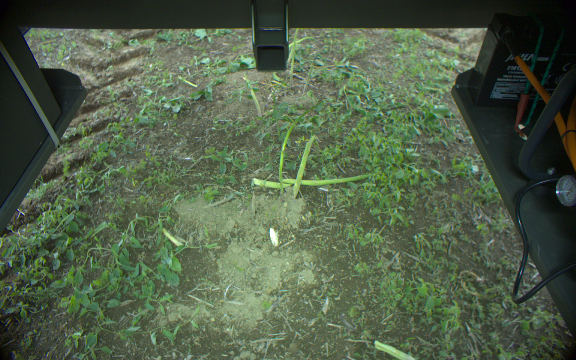aspa: (276, 100, 319, 189), (293, 134, 319, 196), (242, 75, 263, 118), (289, 27, 300, 83)
